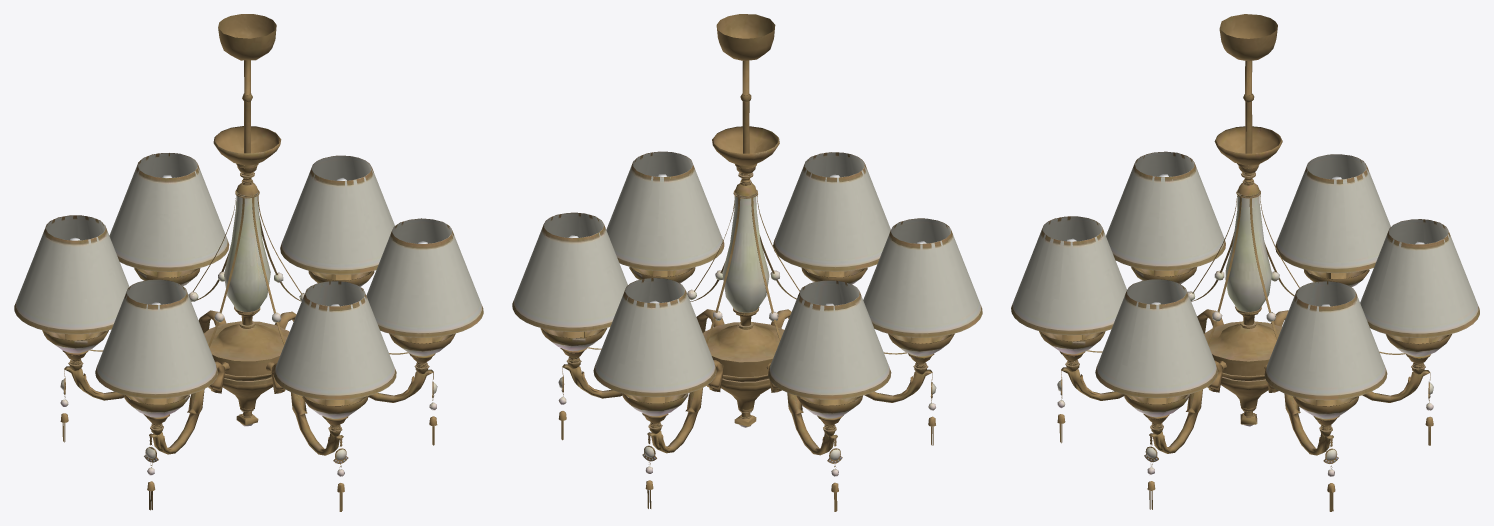
File: ph_Chandelier_01.glb
3 views of the same model, side by side, from view 1: azimuth 30°, elevation 25°; view 2: azimuth 150°, elevation 25°; view 3: azimuth 270°, elevation 25° (orthographic).
Visible parts, largest first — view 1: Chandelier_01; view 2: Chandelier_01; view 3: Chandelier_01.
Part boxes in pixels (left/top/right/bottom): Chandelier_01: left=14, top=14, right=483, bottom=511; Chandelier_01: left=512, top=14, right=982, bottom=511; Chandelier_01: left=1011, top=14, right=1479, bottom=511.
Bounding box in the file's own units: 0.7465 × 0.7983 × 0.8155.
Materials: 2 (1 with a texture image).
